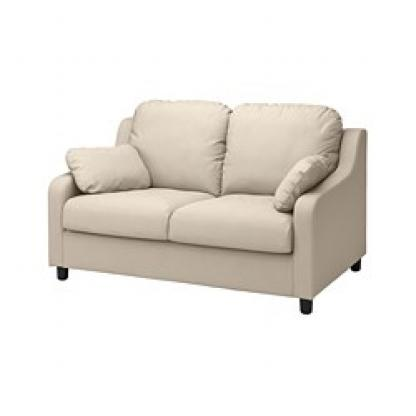Sofa: (37, 68, 376, 333)
